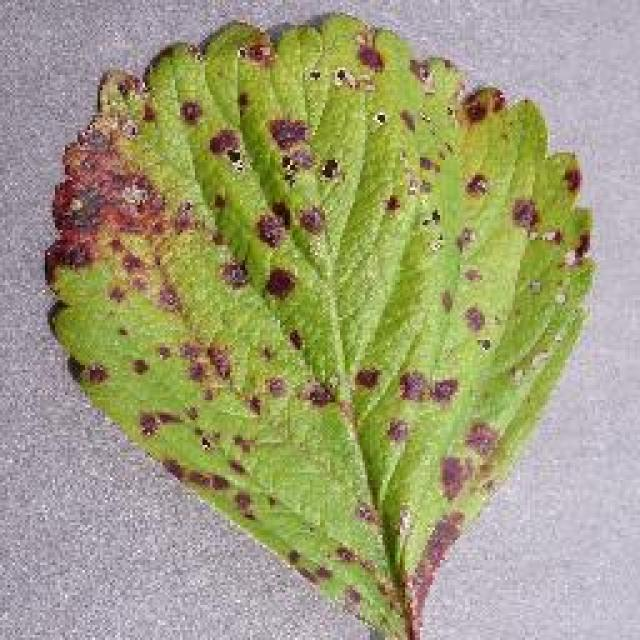Strawberry leaf scorch: (88, 105, 512, 457)
